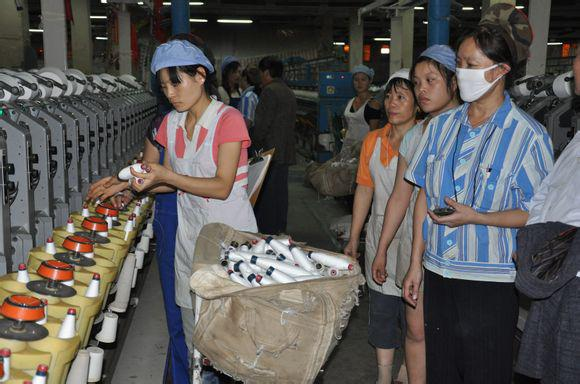NONE: (414, 72, 450, 112), (163, 75, 199, 112), (386, 93, 414, 123), (355, 77, 371, 92), (229, 69, 243, 83)
OK: (456, 55, 501, 100)
